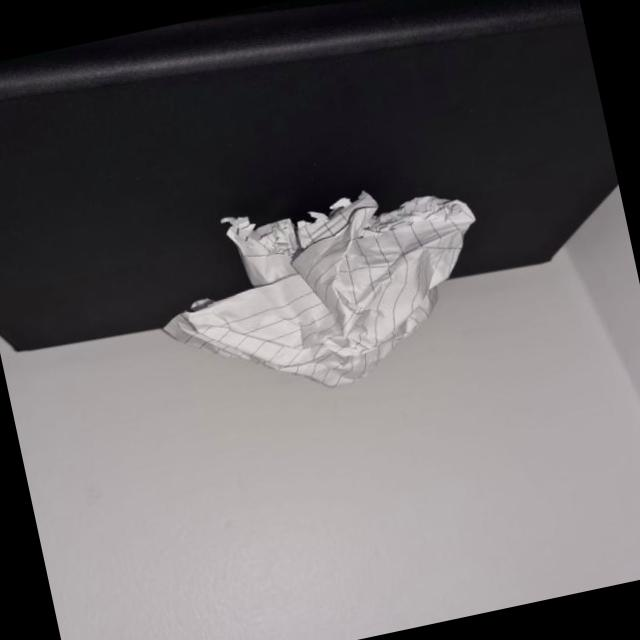cardboard paper: (166, 193, 476, 387)
